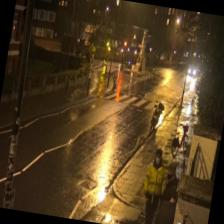person: (136, 146, 169, 224), (156, 160, 184, 224)
